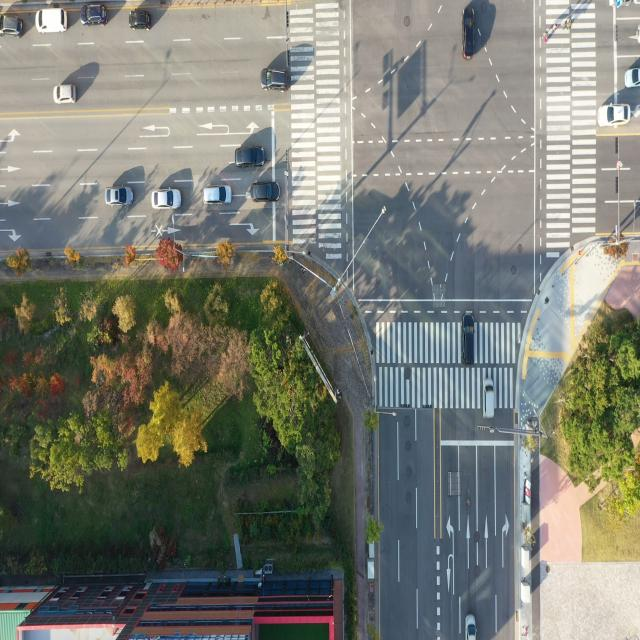car: (34, 8, 71, 34), (596, 103, 632, 128), (462, 309, 476, 370), (479, 378, 497, 421), (462, 7, 476, 60), (262, 68, 291, 93), (0, 8, 24, 38), (79, 5, 108, 28), (52, 81, 78, 106), (236, 147, 264, 169), (252, 182, 279, 204), (154, 188, 181, 209), (203, 185, 231, 205), (106, 186, 132, 206), (130, 10, 153, 30), (623, 65, 640, 85), (465, 615, 477, 640)
